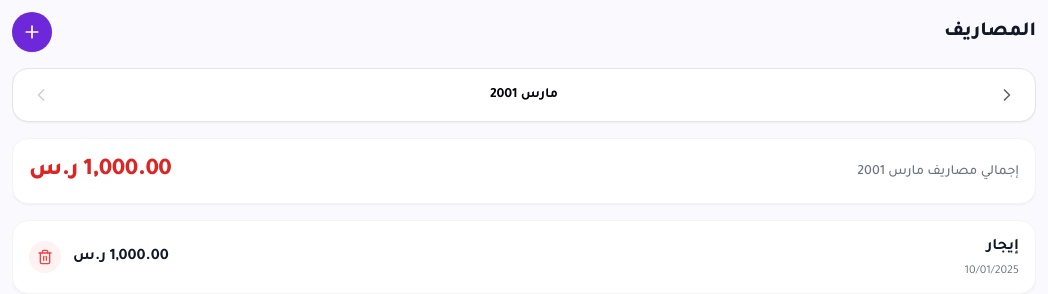
Test: صفحة المصاريف (Expenses) › حذف المصروف › النقرة الأولى تحوّل الزر إلى 'تأكيد'
The width and height of the screenshot is (1048, 294).
Expected: the text "إيجار" is shown, [986,239,1019,255]
Step 1. Click the button named "حذف" → (45, 257), box [29,241,61,273]
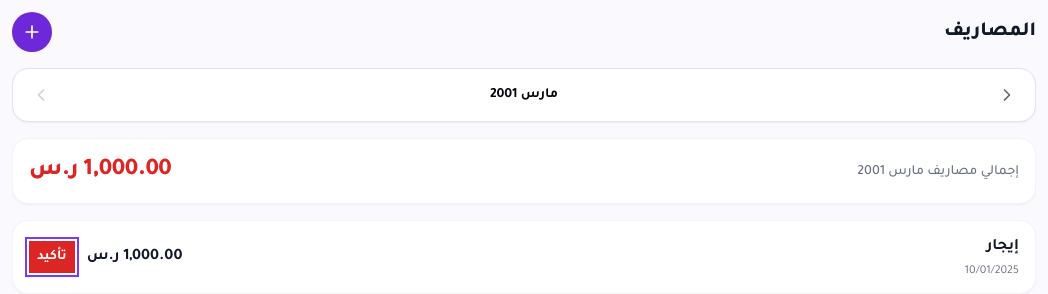
Expected: the button with aria-label "تأكيد الحذف" is shown, [29,241,75,273]
